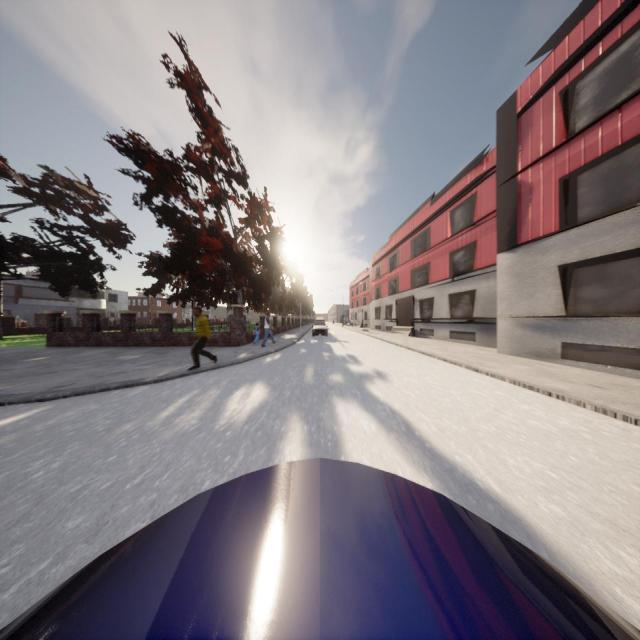Pedestrian: (188, 307, 216, 370), (260, 311, 276, 347), (253, 322, 260, 346)
Vehicle: (0, 458, 640, 640), (312, 317, 328, 337)
